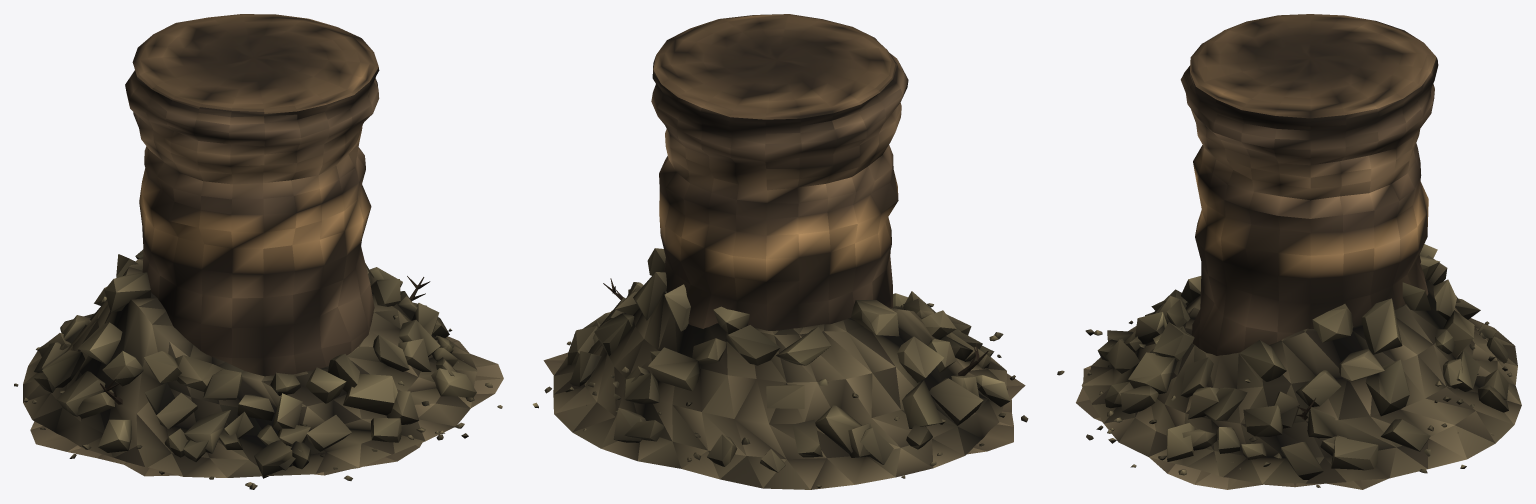
Rendered from TarSpire10.glb.
3 renders of one model, left to right at view 1: azimuth 30°, elevation 25°; view 2: azimuth 150°, elevation 25°; view 3: azimuth 270°, elevation 25°, orthographic.
Parts seen in each view (by area): view 1: TarSpire10; view 2: TarSpire10; view 3: TarSpire10.
Part boxes in pixels (box(x1,y1,x2,y2)): TarSpire10: box(14, 14, 503, 489); TarSpire10: box(532, 14, 1028, 489); TarSpire10: box(1057, 14, 1521, 489).
Bounding box in the file's own units: 9.76 × 7.35 × 9.02.
